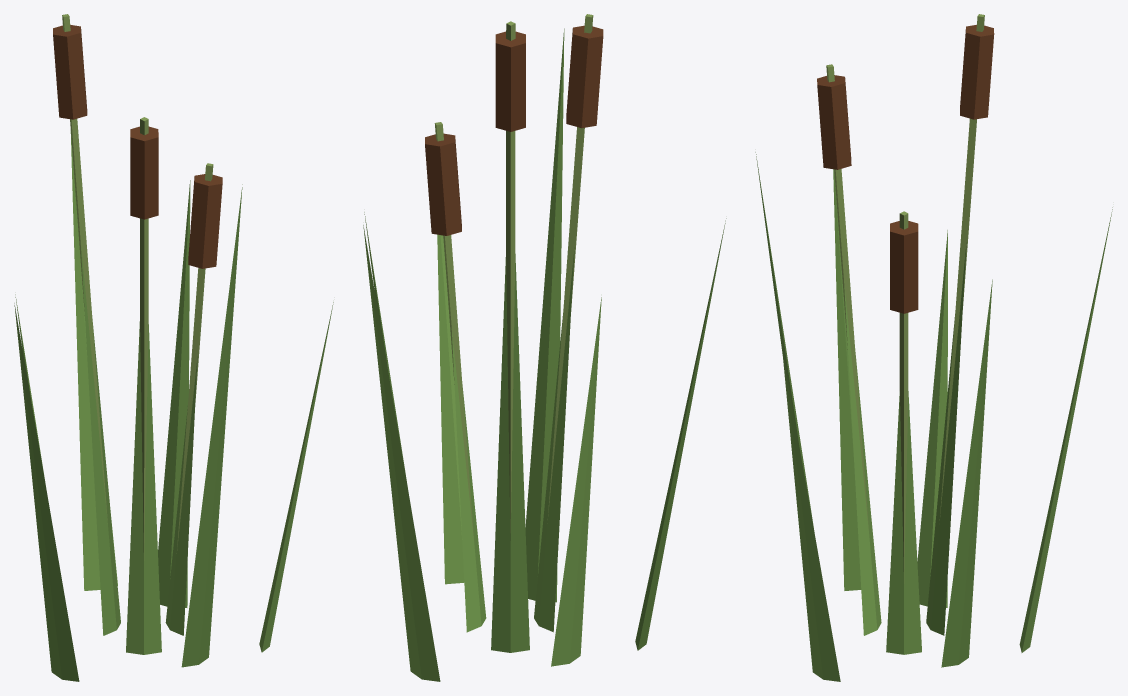
The model's file is taboa.glb.
3 views of the same model, side by side, from view 1: azimuth 30°, elevation 25°; view 2: azimuth 150°, elevation 25°; view 3: azimuth 270°, elevation 25° (orthographic). The views are drawn at different scales.
Parts seen in each view (by area): view 1: folha_6, folha_7, folha_1, folha_5, folha_2, folha_3, folha_0, espiga_0, espiga_3, espiga_6, haste_6, haste_3 (+2 smaller); view 2: folha_3, folha_7, folha_2, folha_4, folha_8, folha_6, folha_0, espiga_6, espiga_0, espiga_3, haste_3, folha_5 (+2 smaller); view 3: folha_1, folha_0, folha_8, folha_5, folha_4, folha_3, folha_6, folha_2, espiga_3, espiga_6, espiga_0, haste_3 (+3 smaller).
Part boxes in pixels (left/top/right/bottom): folha_6: left=126, top=321, right=161, bottom=654; folha_7: left=181, top=184, right=242, bottom=667; folha_1: left=158, top=180, right=190, bottom=607; folha_5: left=14, top=303, right=79, bottom=681; folha_2: left=70, top=131, right=117, bottom=590; folha_3: left=80, top=243, right=120, bottom=635; folha_0: left=165, top=356, right=197, bottom=635; espiga_0: left=188, top=174, right=222, bottom=268; espiga_3: left=53, top=25, right=87, bottom=119; espiga_6: left=130, top=126, right=158, bottom=219; haste_6: left=140, top=117, right=148, bottom=560; haste_3: left=62, top=14, right=107, bottom=523; folha_3: left=491, top=254, right=529, bottom=652; folha_7: left=525, top=28, right=564, bottom=602; folha_2: left=363, top=225, right=440, bottom=681; folha_4: left=551, top=297, right=601, bottom=666; folha_8: left=437, top=234, right=464, bottom=584; folha_6: left=534, top=247, right=574, bottom=632; folha_0: left=451, top=329, right=486, bottom=632; espiga_6: left=566, top=25, right=603, bottom=128; espiga_0: left=425, top=133, right=461, bottom=235; espiga_3: left=495, top=31, right=525, bottom=131; haste_3: left=506, top=21, right=515, bottom=540; folha_5: left=635, top=218, right=726, bottom=650; folha_1: left=941, top=279, right=992, bottom=667; folha_0: left=886, top=391, right=921, bottom=654; folha_8: left=782, top=348, right=840, bottom=681; folha_5: left=833, top=169, right=861, bottom=590; folha_4: left=917, top=230, right=947, bottom=607; folha_3: left=926, top=242, right=966, bottom=635; folha_6: left=844, top=281, right=881, bottom=635; folha_2: left=1019, top=207, right=1112, bottom=652; espiga_3: left=960, top=24, right=994, bottom=119; espiga_6: left=817, top=75, right=851, bottom=169; espiga_0: left=890, top=221, right=918, bottom=313; haste_3: left=939, top=14, right=984, bottom=520.
Bounding box in the file's own units: 0.9444 × 1.85 × 0.9956.
